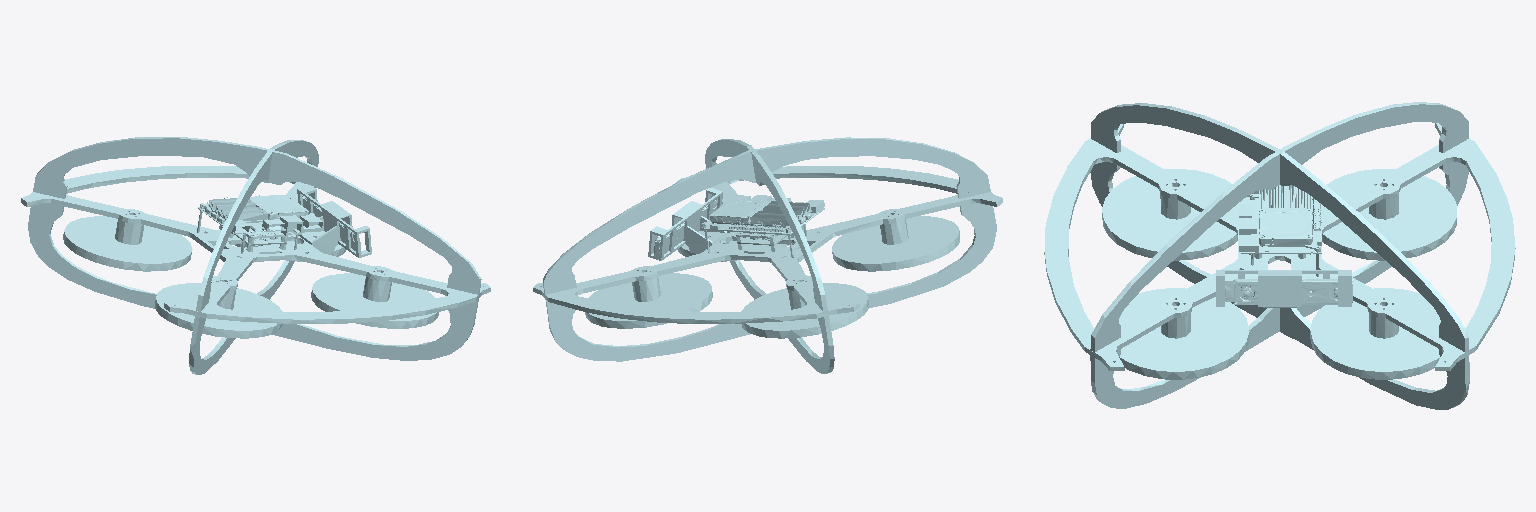
URDF robot description (visual):
<?xml version="1.0"?>
<robot name="visual">

  <link name="delta/base_link">
    <visual>
      <origin rpy="0 0.172 0" xyz="-0.06 0 0"/>
      <geometry>
        <mesh filename="package://rmf_sim/meshes/rmf.dae" scale='1 1 1'/>
      </geometry>
    </visual>
  </link>


</robot>

--- Facts derived from the render (not from the file) ---
Views: 3 orthographic renders of the robot side by side, from view 1: azimuth 30°, elevation 25°; view 2: azimuth 150°, elevation 25°; view 3: azimuth 270°, elevation 25°.
Model visual with 1 links and 0 joints (none), rooted at delta/base_link, posed all joints at 0.
Visible links, largest first — view 1: delta/base_link; view 2: delta/base_link; view 3: delta/base_link.
Link boxes in pixels (x1,y1,x2,y2): delta/base_link: (21,137,490,374); delta/base_link: (533,137,1002,373); delta/base_link: (1044,102,1515,409).
Size in the robot's own frame: 0.2873 by 0.3201 by 0.161 metres.
Meshes: 1 distinct files referenced, 1 mesh visuals loaded (1 Collada DAE).